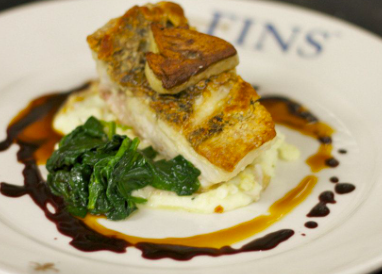curry: (44, 119, 196, 220)
soup: (46, 1, 278, 221)
